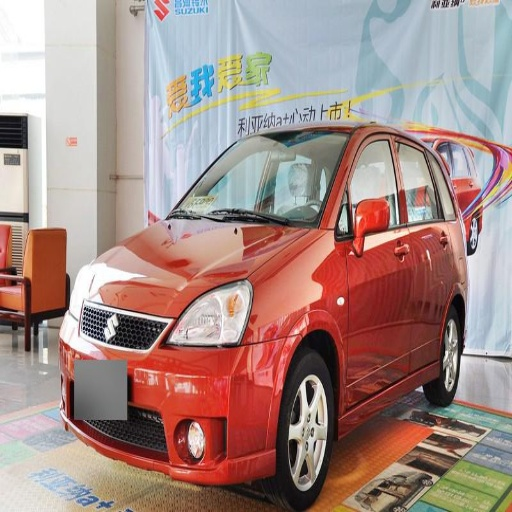front_bumper: (63, 307, 294, 483)
front_glass: (167, 132, 351, 226)
front_left_door: (337, 130, 413, 385)
